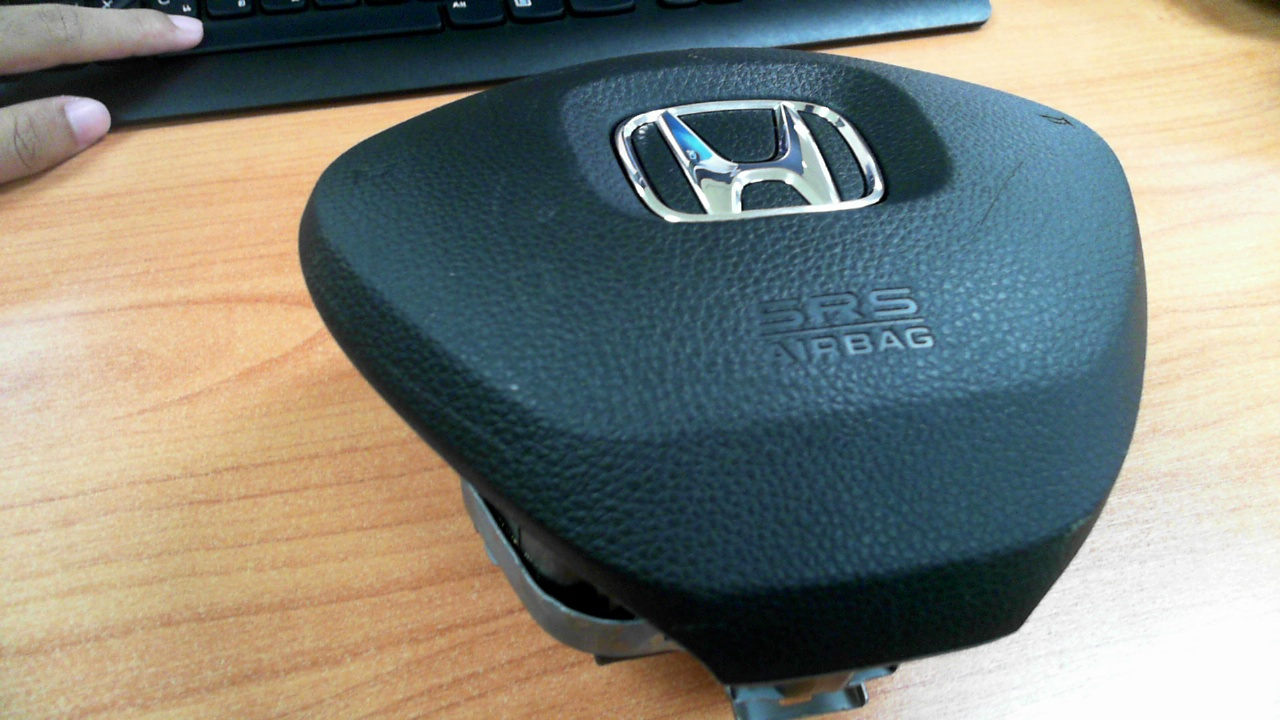Airbag: (297, 44, 1148, 688)
Honda: (617, 99, 884, 223)
